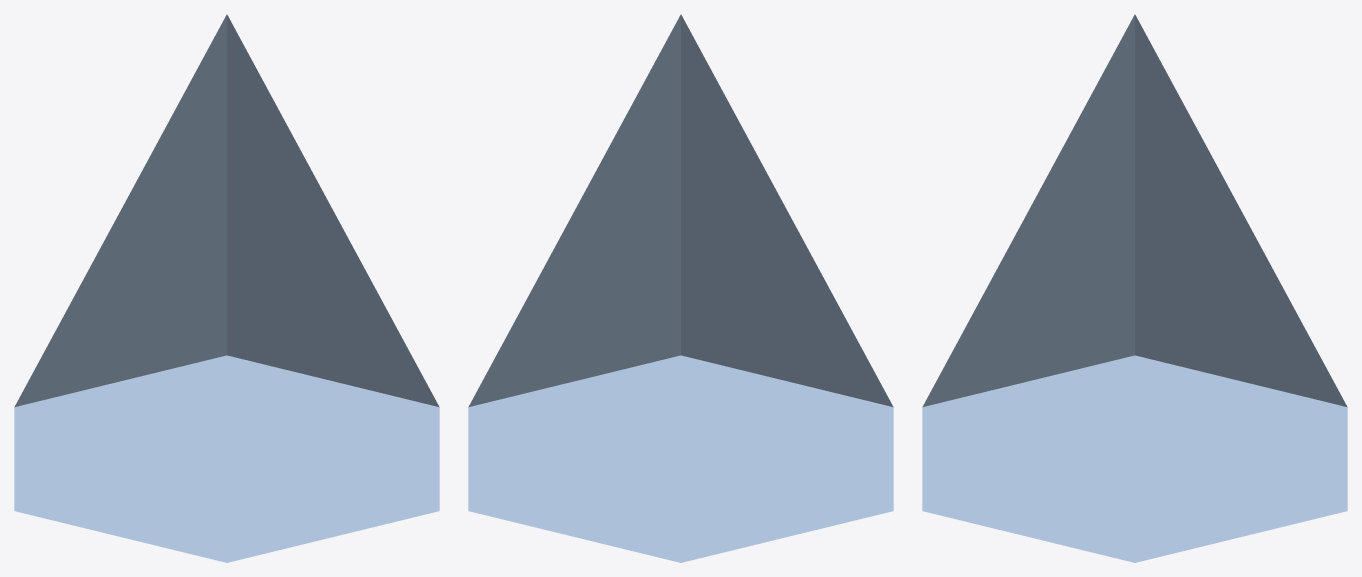
The model's file is flower_blue_01.glb.
3 views of the same model, side by side, from view 1: azimuth 30°, elevation 25°; view 2: azimuth 150°, elevation 25°; view 3: azimuth 270°, elevation 25° (orthographic).
Parts seen in each view (by area): view 1: 蓝色花丛; view 2: 蓝色花丛; view 3: 蓝色花丛.
Part boxes in pixels (box(x1,y1,x2,y2)): 蓝色花丛: box(14, 14, 439, 562); 蓝色花丛: box(468, 14, 893, 562); 蓝色花丛: box(922, 14, 1347, 562).
Bounding box in the file's own units: 1 × 1 × 0.866.
